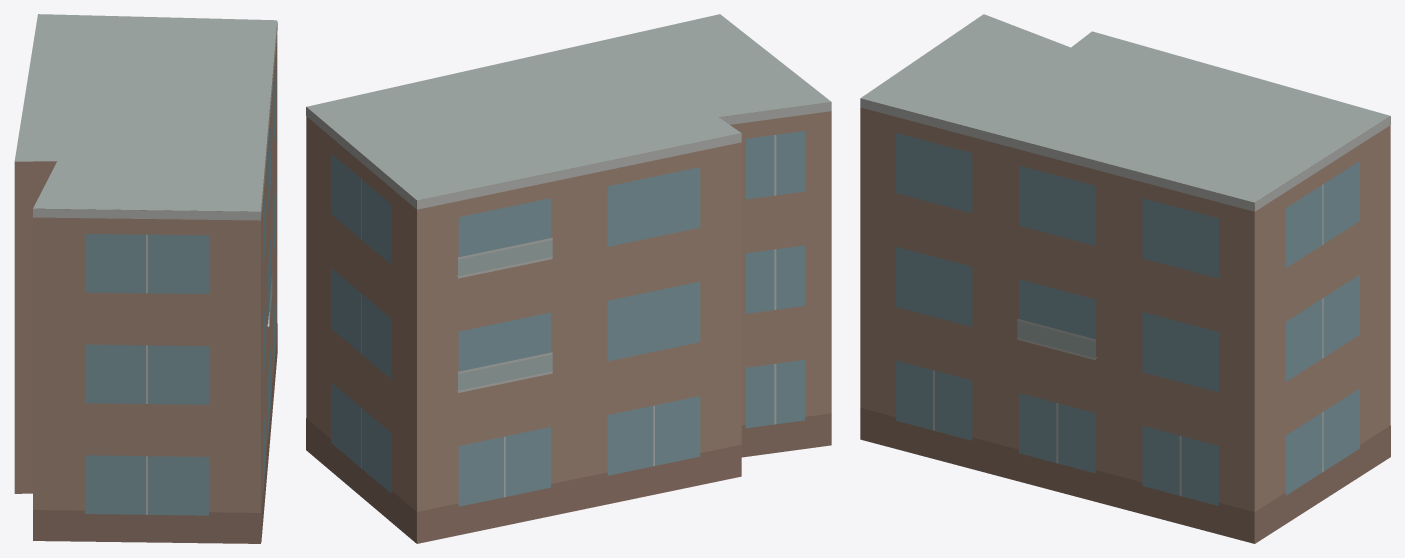
File: survey-upis-32796563.glb
3 renders of one model, left to right at view 1: azimuth 30°, elevation 25°; view 2: azimuth 150°, elevation 25°; view 3: azimuth 270°, elevation 25°, orthographic. The views are drawn at different scales.
Parts seen in each view (by area): view 1: survey-upis-32796563.tmp; view 2: survey-upis-32796563.tmp; view 3: survey-upis-32796563.tmp.
Part boxes in pixels (x1,y1,x2,y2): survey-upis-32796563.tmp: (14, 14, 277, 543); survey-upis-32796563.tmp: (306, 14, 831, 543); survey-upis-32796563.tmp: (860, 14, 1390, 543).
Size of the model in its own units: 10.8 by 9.1 by 12.83.
